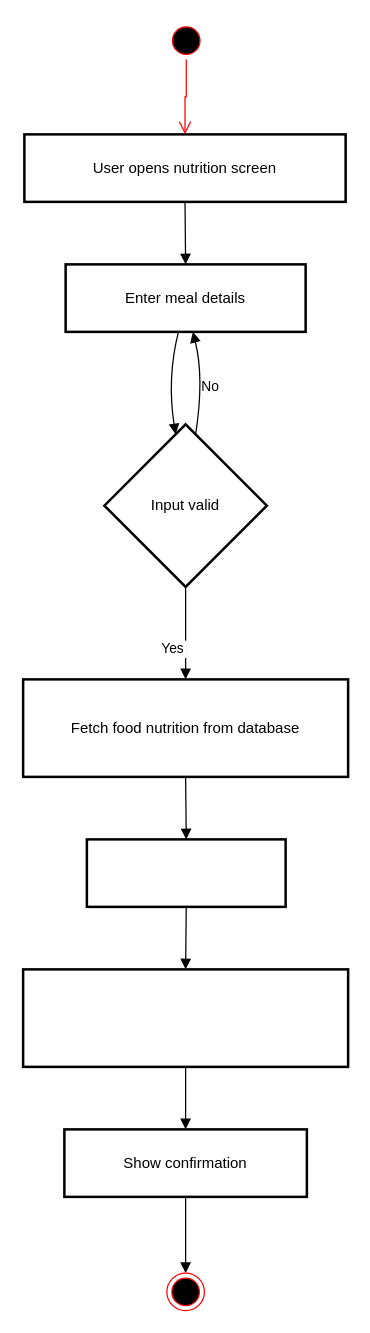
Image size: 370x1333. Some labels were removed from this diagram. The shapes that lost their labels are listed below. From the top down, each one's centre as x and y in pixels, then its label:
[185,873]: Save meal log
[185,1018]: Update daily nutrition summary
